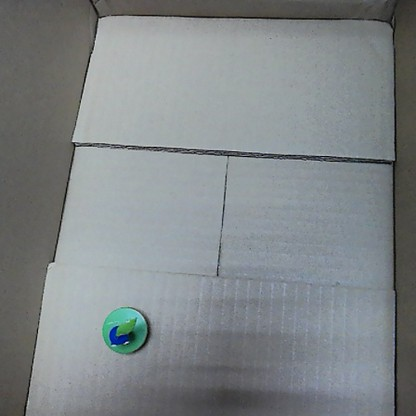leafairy: (98, 302, 149, 354)
